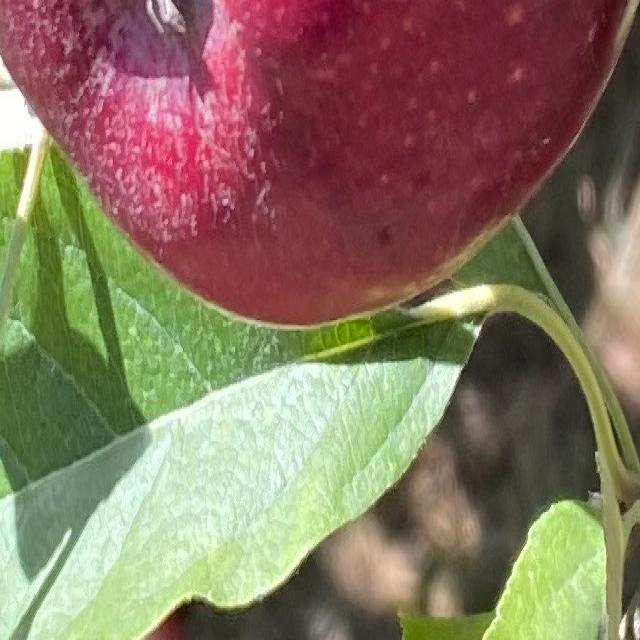Apples: (0, 0, 639, 331)
